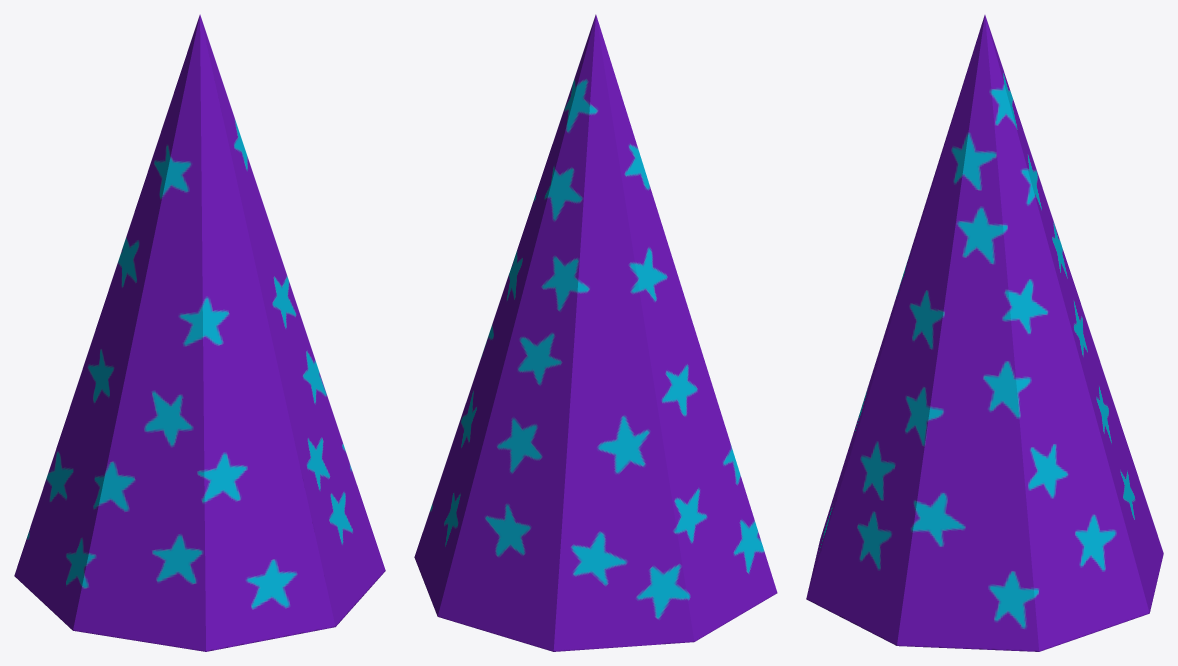
File: Party Hat (Starry).fbx
The picture shows the model from 3 angles, left to right: view 1: azimuth 30°, elevation 25°; view 2: azimuth 150°, elevation 25°; view 3: azimuth 270°, elevation 25°; orthographic projection.
Visible parts, largest first — view 1: Cone; view 2: Cone; view 3: Cone.
Boxes of the visible parts, <box> form: Cone: <box>14,14,385,651</box>; Cone: <box>414,14,777,651</box>; Cone: <box>806,15,1163,651</box>.
Size of the model in its own units: 115 by 200 by 115.
